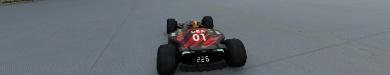Car: (155, 15, 246, 74)
